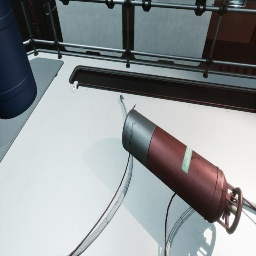NitrogenTank ,: (122, 109, 243, 235)
